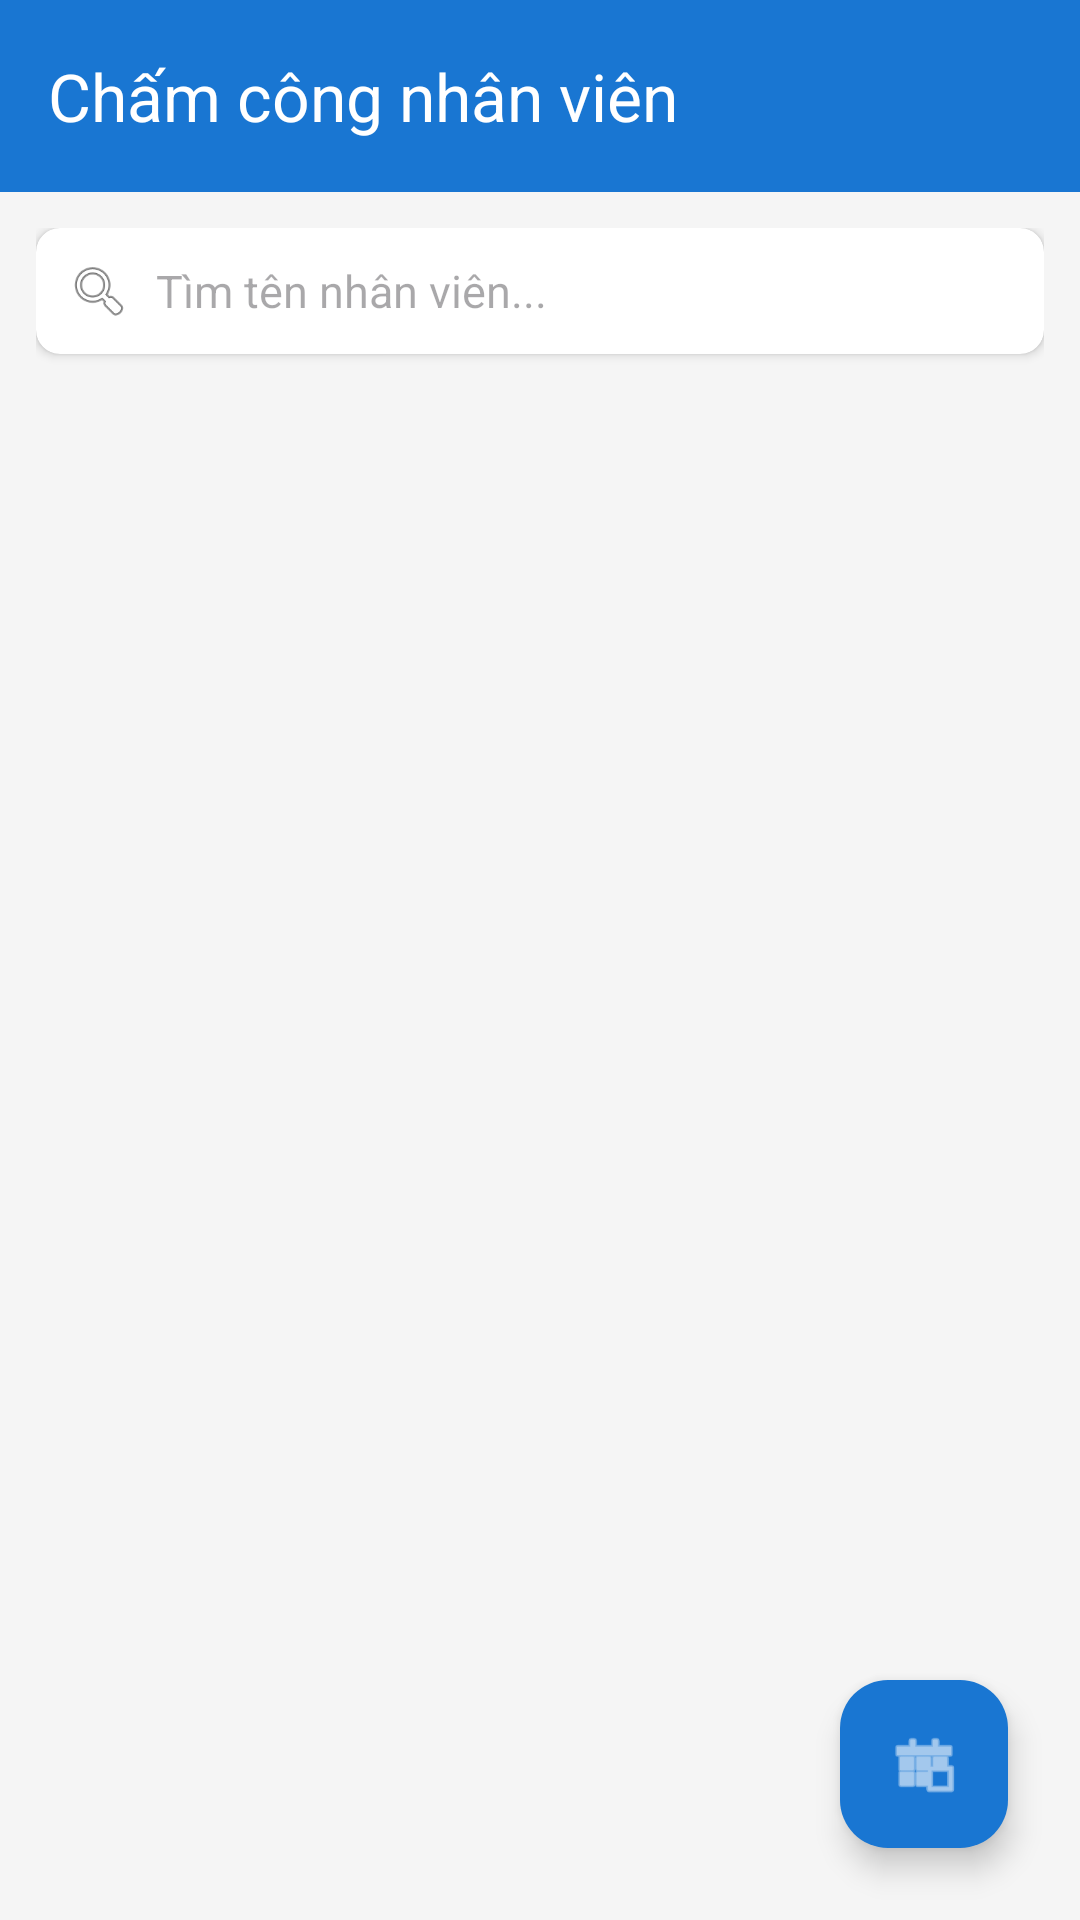

Icon bounding boxes for this 1080x1920 phone screenshot, format {"x1": x1, "y1": y1, "x2": x2, "y2": y2}:
search: {"x1": 75, "y1": 267, "x2": 123, "y2": 316}
today: {"x1": 840, "y1": 1680, "x2": 1008, "y2": 1848}
